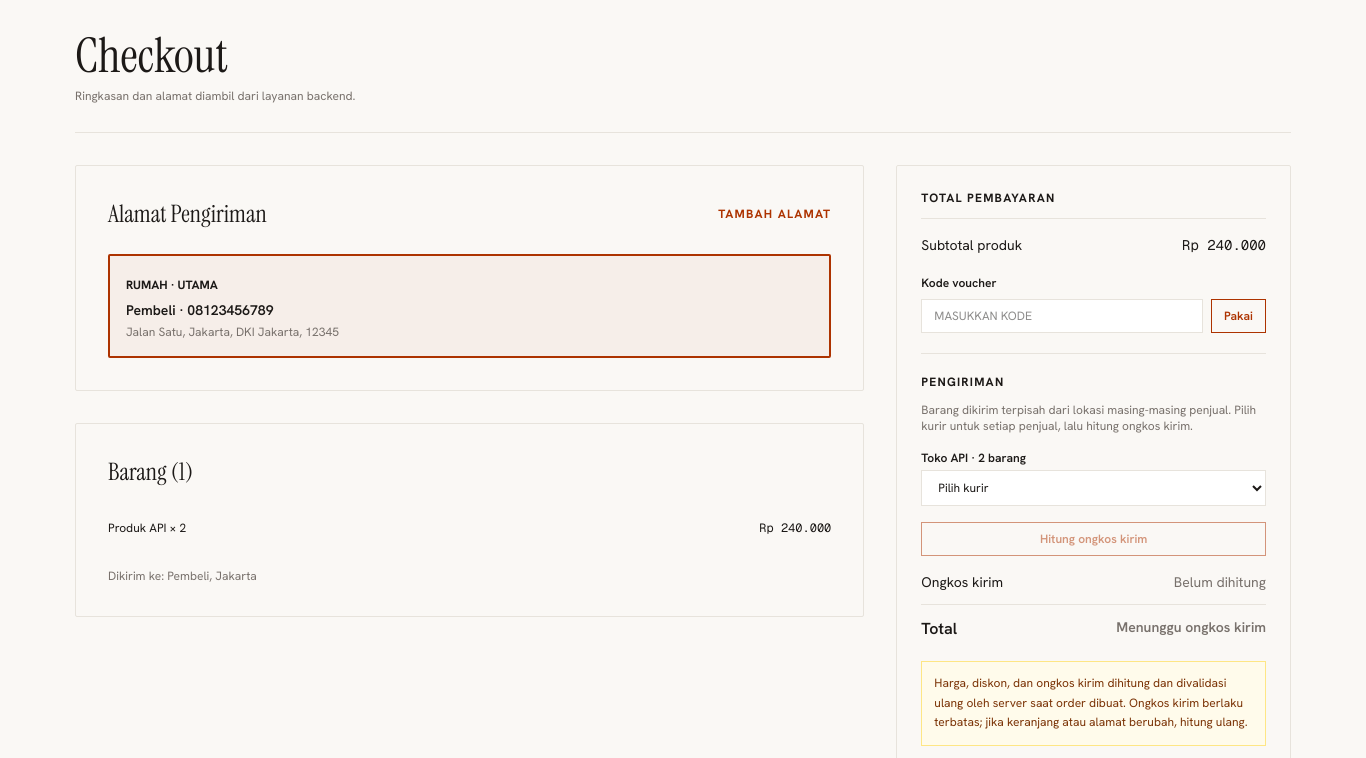
Scenario: CheckoutPage › asks the server to price one shipment per seller
This screenshot has width=1366, height=758.
Step 1. Select "JNE — REG" in the dropdown → (1094, 488), box x1=921 y1=470 x2=1266 y2=506
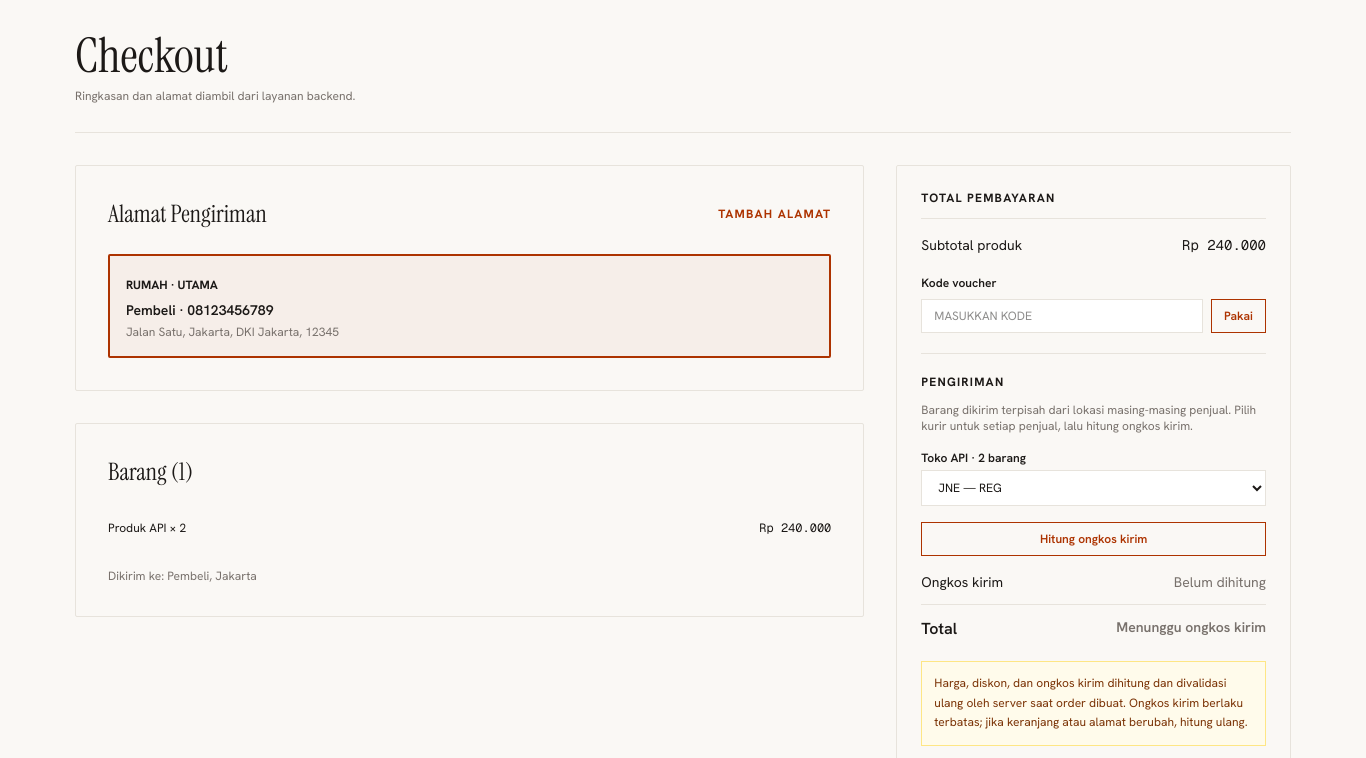
Step 2. Click the button "Hitung ongkos kirim" → (1094, 539), box x1=921 y1=522 x2=1266 y2=556
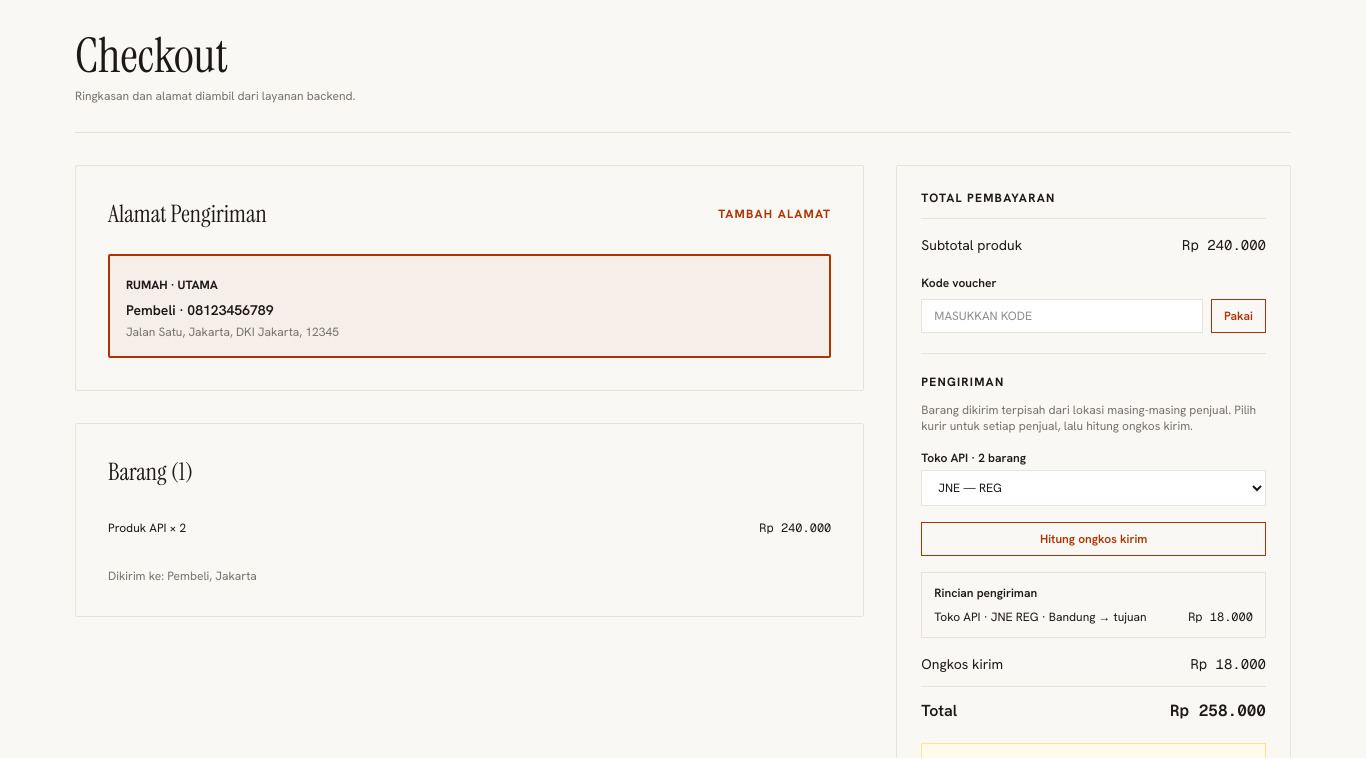
Result: the text "Rp 18.000" in the row of "JNE" is shown at x1=1188 y1=609 x2=1253 y2=625
